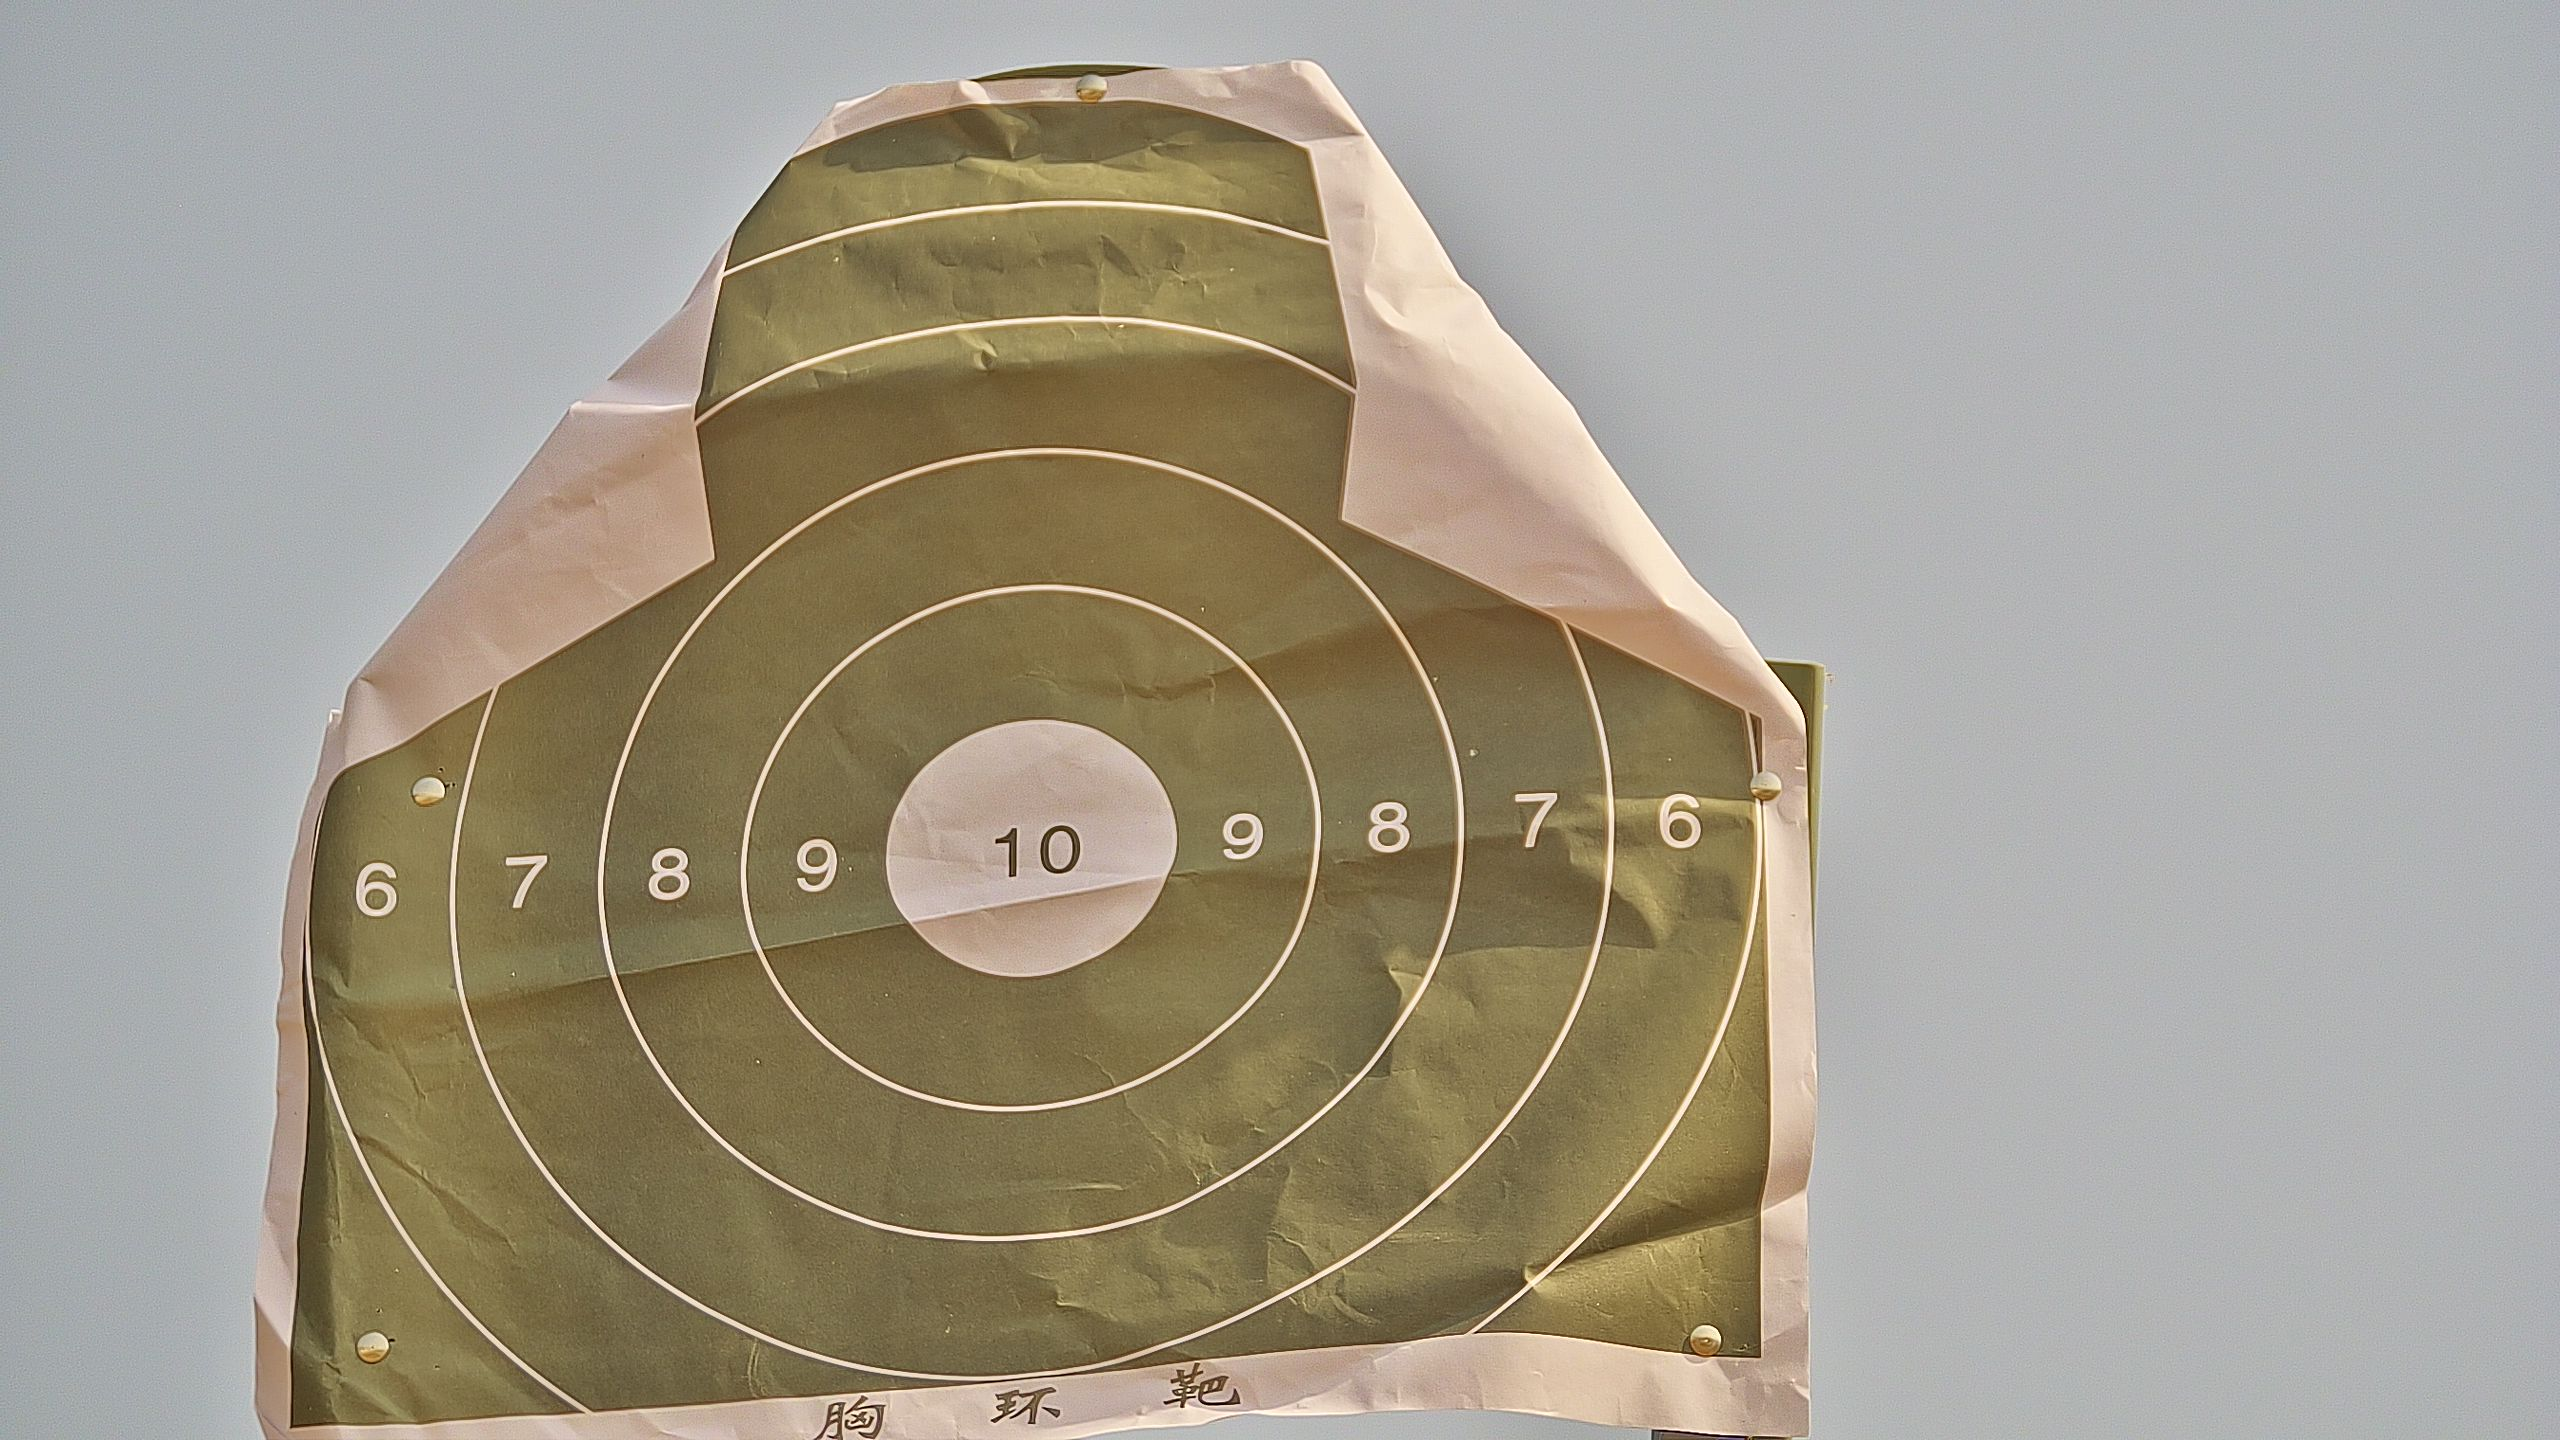kernel: (1029, 855, 1032, 856)
target: (294, 100, 1764, 1436)
ten: (888, 716, 1176, 978)
